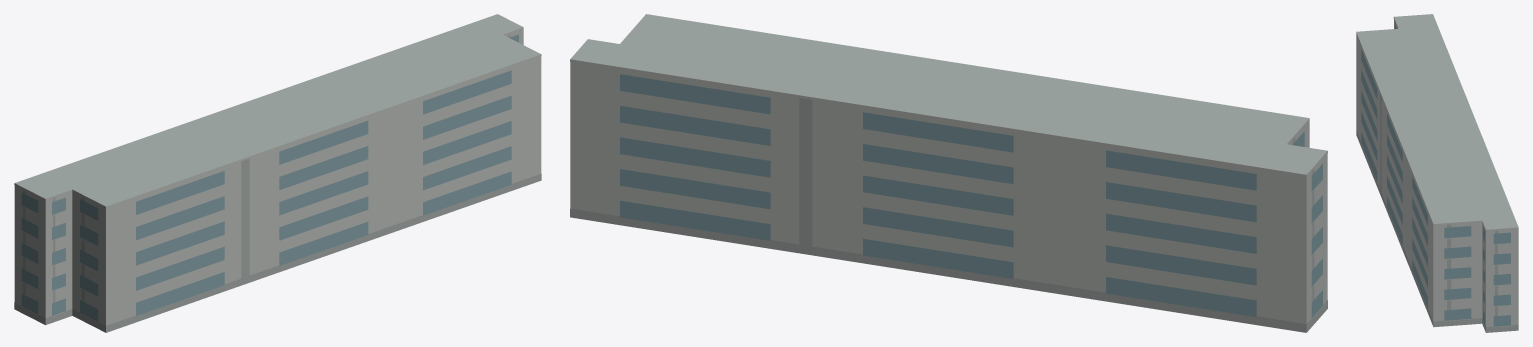
Rendered from residential-82c461bb-53d3-412a-94ee-1f688751c506.glb.
The picture shows the model from 3 angles, left to right: view 1: azimuth 30°, elevation 25°; view 2: azimuth 150°, elevation 25°; view 3: azimuth 270°, elevation 25°; orthographic projection. The views are drawn at different scales.
Parts seen in each view (by area): view 1: residential-82c461bb-53d3-412a-94ee-1f688751c506.tmp; view 2: residential-82c461bb-53d3-412a-94ee-1f688751c506.tmp; view 3: residential-82c461bb-53d3-412a-94ee-1f688751c506.tmp.
Part boxes in pixels (x1,y1,x2,y2): residential-82c461bb-53d3-412a-94ee-1f688751c506.tmp: (14,14,541,332); residential-82c461bb-53d3-412a-94ee-1f688751c506.tmp: (570,14,1327,332); residential-82c461bb-53d3-412a-94ee-1f688751c506.tmp: (1356,14,1518,332).
Bounding box in the file's own units: 68.47 × 15.25 × 21.8.
